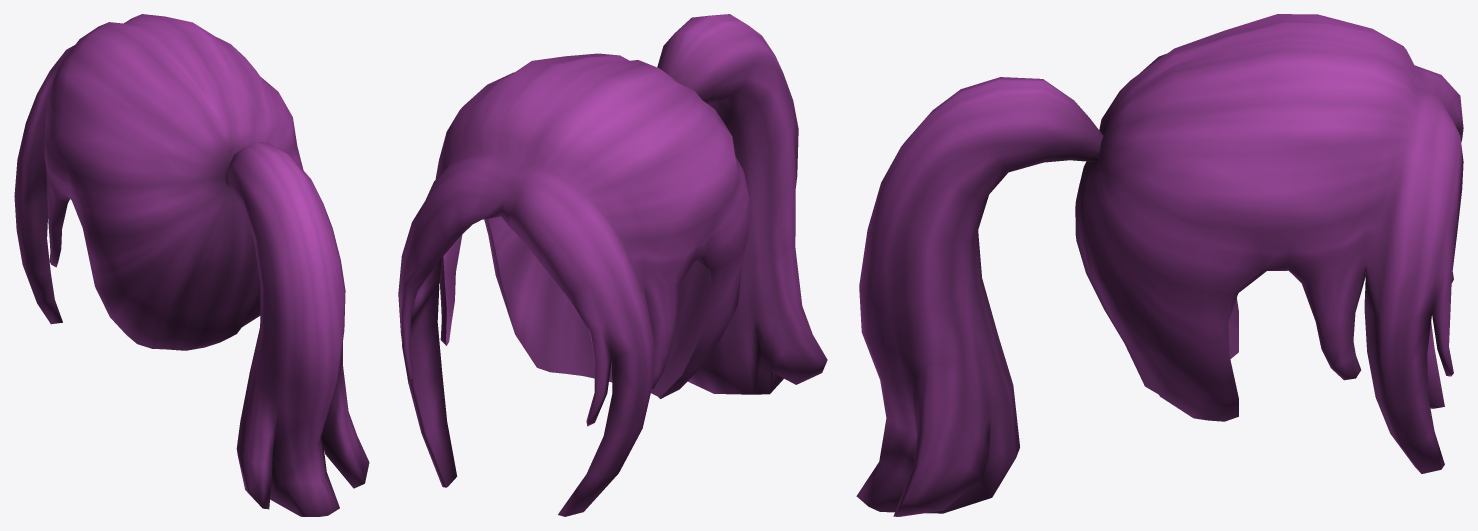
File: Hair_Female_002_textured_purple.glb
The picture shows the model from 3 angles, left to right: view 1: azimuth 30°, elevation 25°; view 2: azimuth 150°, elevation 25°; view 3: azimuth 270°, elevation 25°; orthographic projection. The views are drawn at different scales.
Visible parts, largest first — view 1: Hair_Female_002; view 2: Hair_Female_002; view 3: Hair_Female_002.
Part boxes in pixels (x1,y1,x2,y2): Hair_Female_002: (14, 14, 369, 516); Hair_Female_002: (398, 14, 827, 516); Hair_Female_002: (856, 14, 1463, 516).
Size of the model in its own units: 0.1741 by 0.2888 by 0.3351.
1 material, 1 textured.
